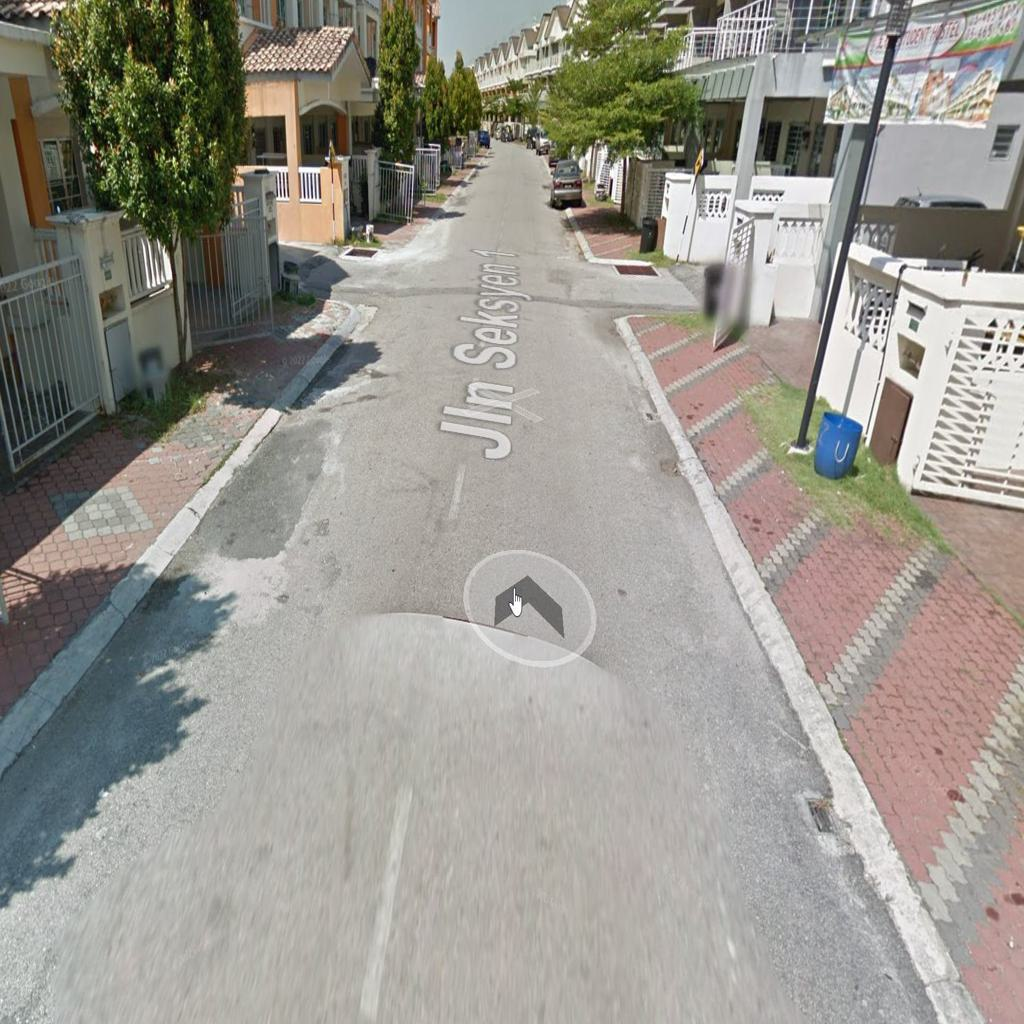Junction: (566, 220, 718, 335), (286, 211, 400, 326)
